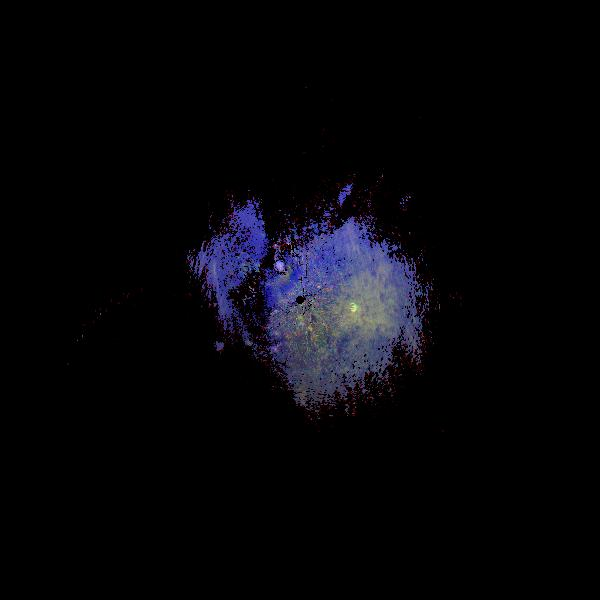roost: (342, 297, 366, 321)
